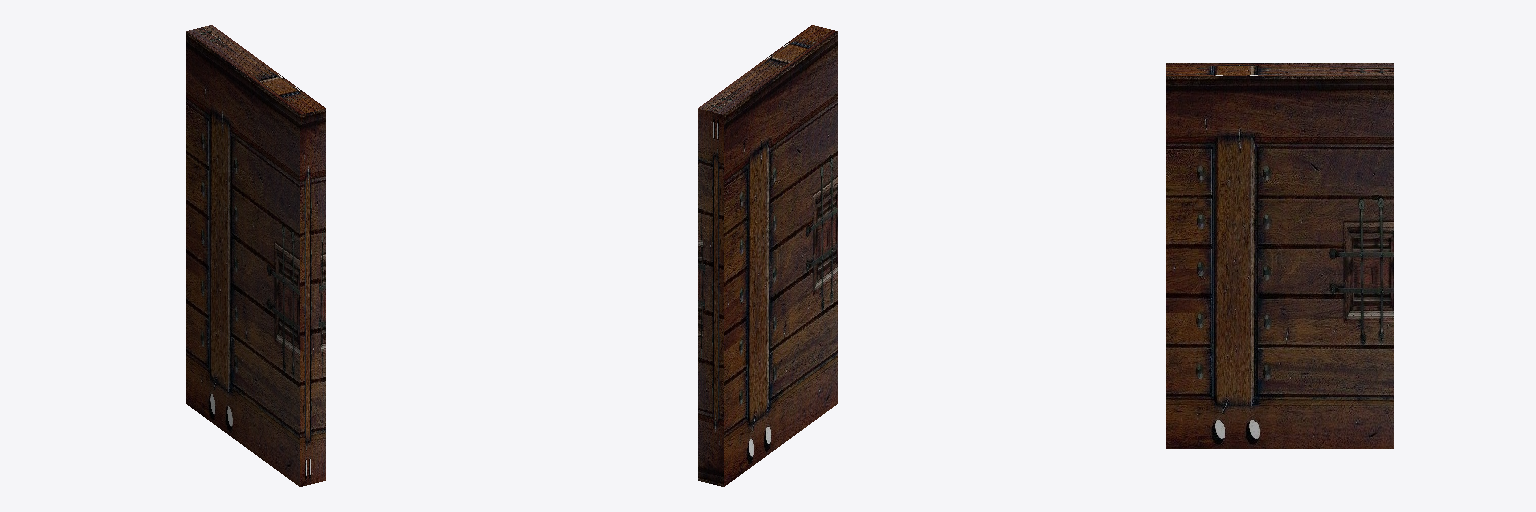
3 renders of one model, left to right at view 1: azimuth 30°, elevation 25°; view 2: azimuth 150°, elevation 25°; view 3: azimuth 270°, elevation 25°, orthographic.
Visible parts, largest first — view 1: Cube; view 2: Cube; view 3: Cube.
Boxes of the visible parts, box(x1,y1,x2,y2) form: Cube: box(186, 25, 325, 486); Cube: box(698, 25, 837, 486); Cube: box(1166, 63, 1393, 448).
Bounding box in the file's own units: 0.4716 × 6.32 × 3.52.
1 materials, 1 textured.